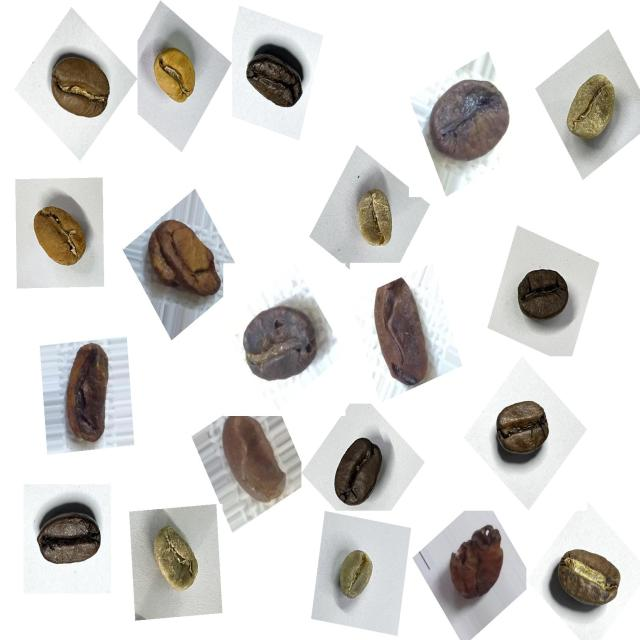bad: (422, 69, 522, 176), (363, 268, 446, 393), (141, 210, 231, 314), (235, 294, 326, 394), (49, 337, 122, 457), (217, 409, 296, 515), (442, 513, 514, 613)
dark: (28, 498, 111, 586), (239, 32, 313, 120), (486, 388, 559, 472), (325, 424, 393, 514), (509, 255, 582, 337)
green: (554, 62, 630, 156), (140, 516, 210, 605), (344, 177, 405, 259), (328, 539, 384, 609)
light: (24, 192, 97, 282), (144, 39, 205, 118)
medium: (547, 536, 629, 622), (41, 46, 119, 133)
